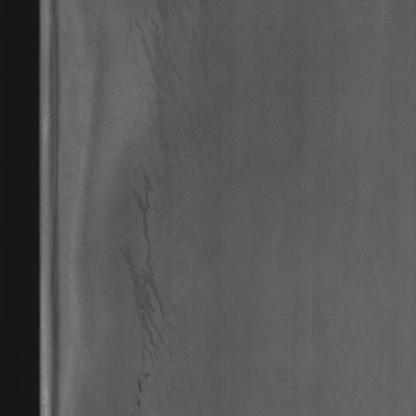water_spot: (119, 30, 200, 405)
